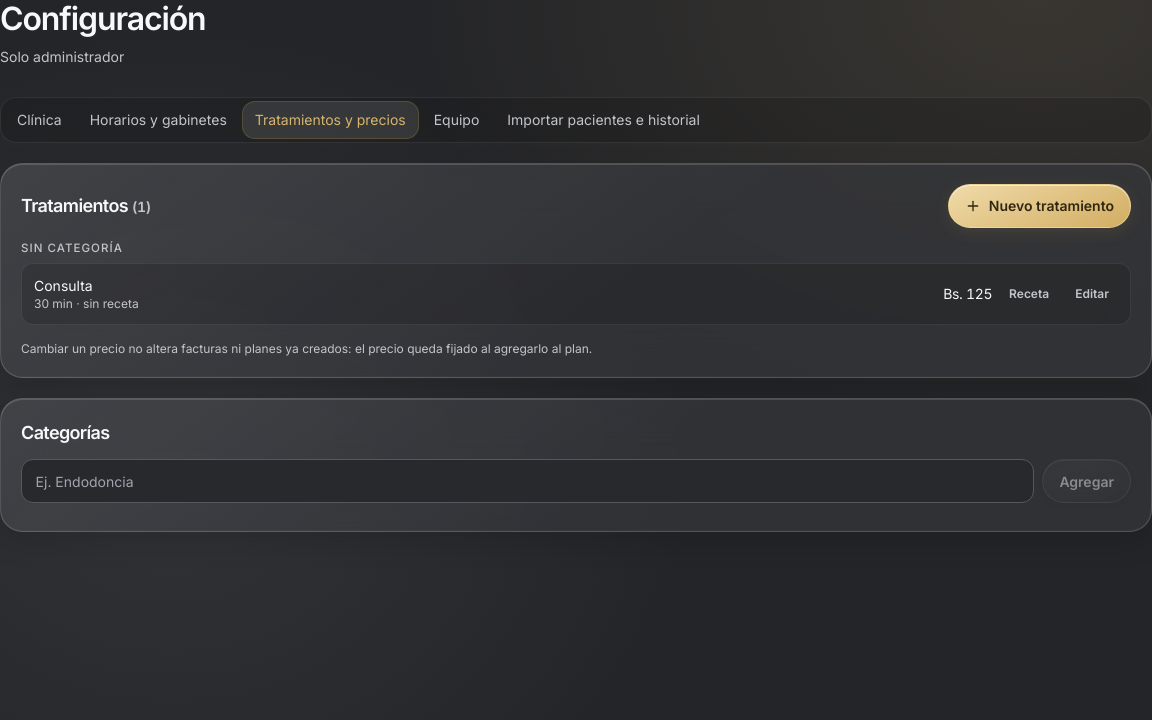
Test: configuración al abrir secciones y diálogos diferidos › mantiene los modos nuevo y edición de tratamientos sin reutilizar borradores
The width and height of the screenshot is (1152, 720).
Click the button "Editar".
click(1092, 294)  # box [1066,272,1118,316]
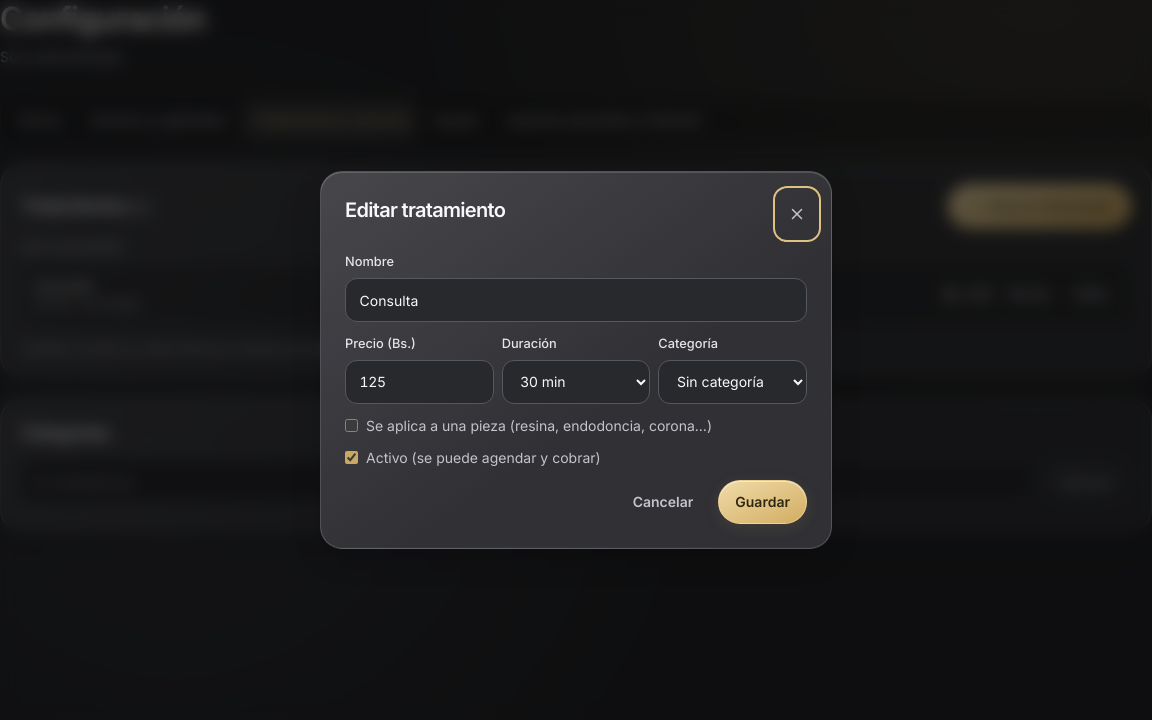
Expected: the field labelled "Nombre" holds "Consulta"
Replace the text in the field labelled "Nombre" with "Borrador" at (576, 300), box [345,278,807,322]
Click the button "Cancelar".
click(663, 502)  # box [616,480,710,524]
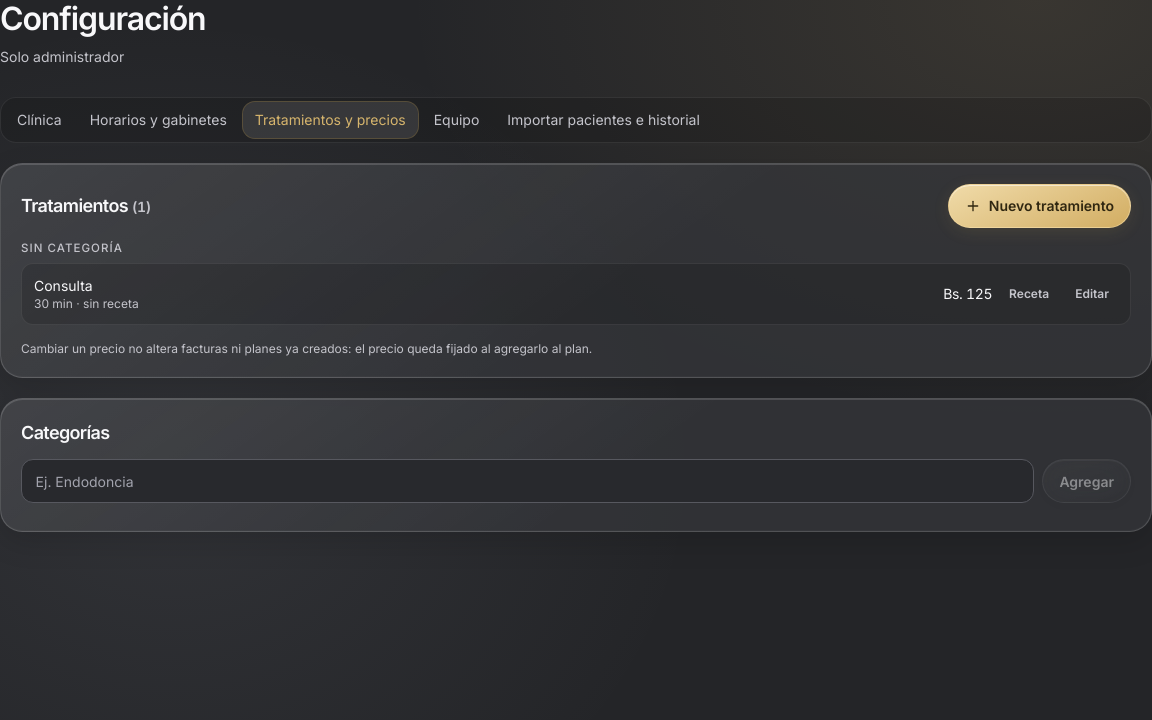
Click the button "Nuevo tratamiento".
click(1039, 206)  # box [948,184,1131,228]
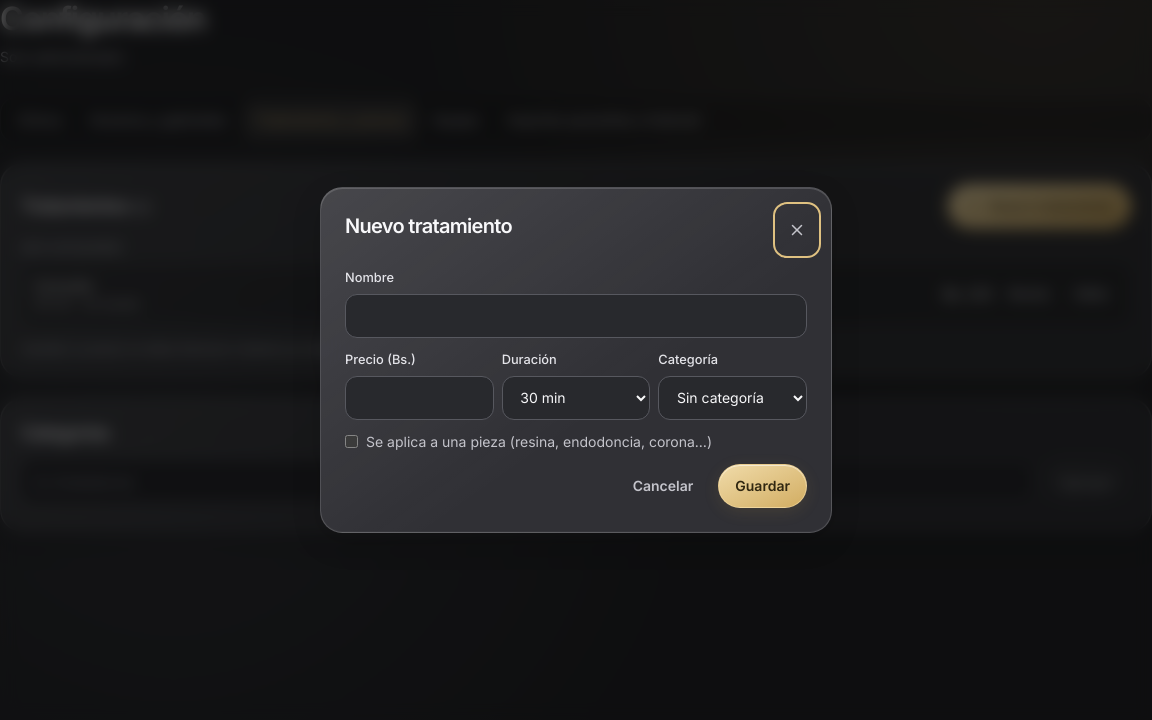
Type "Control" into the field labelled "Nombre".
click(576, 316); type("Control")  # box [345,294,807,338]
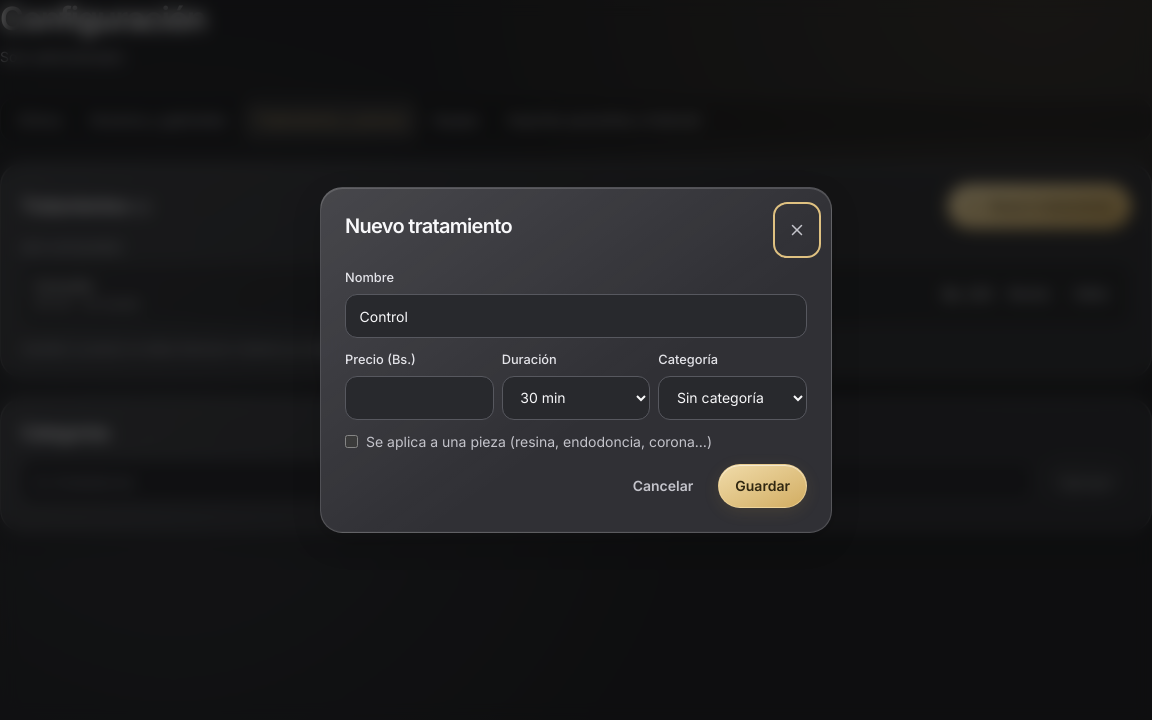
Type "50,25" into the field labelled "Precio (Bs.)".
click(419, 398); type("50,25")  # box [345,376,494,420]
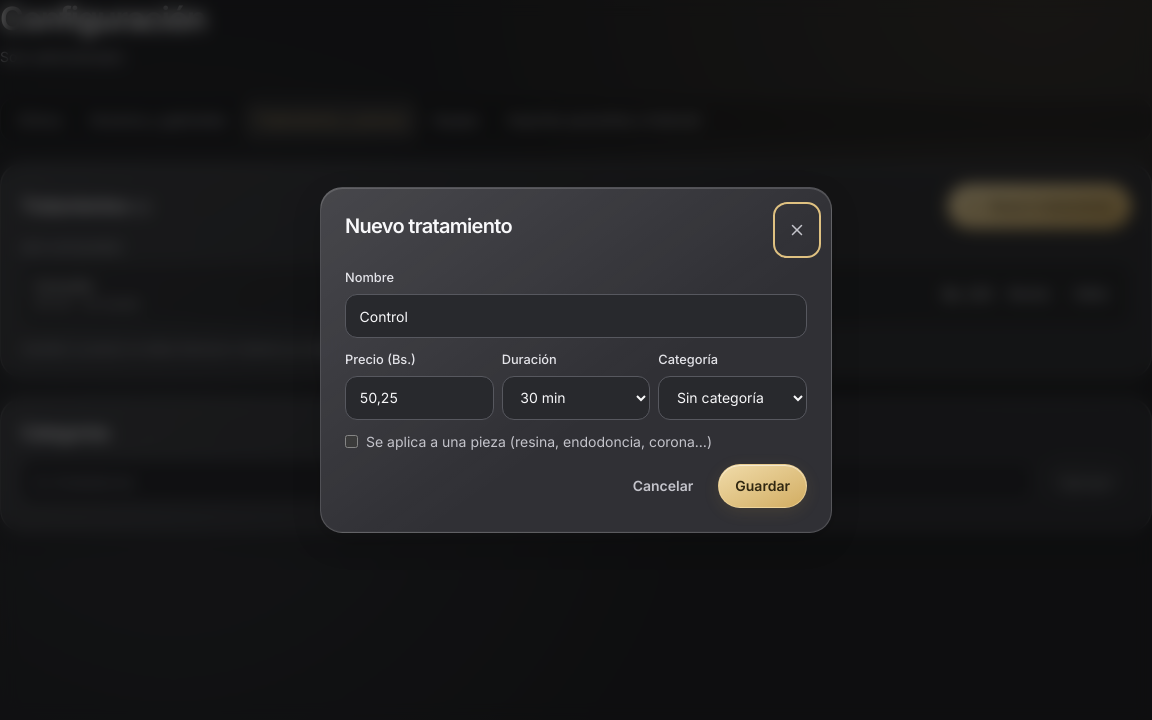
Click the button "Guardar".
click(763, 486)  # box [718,464,807,508]
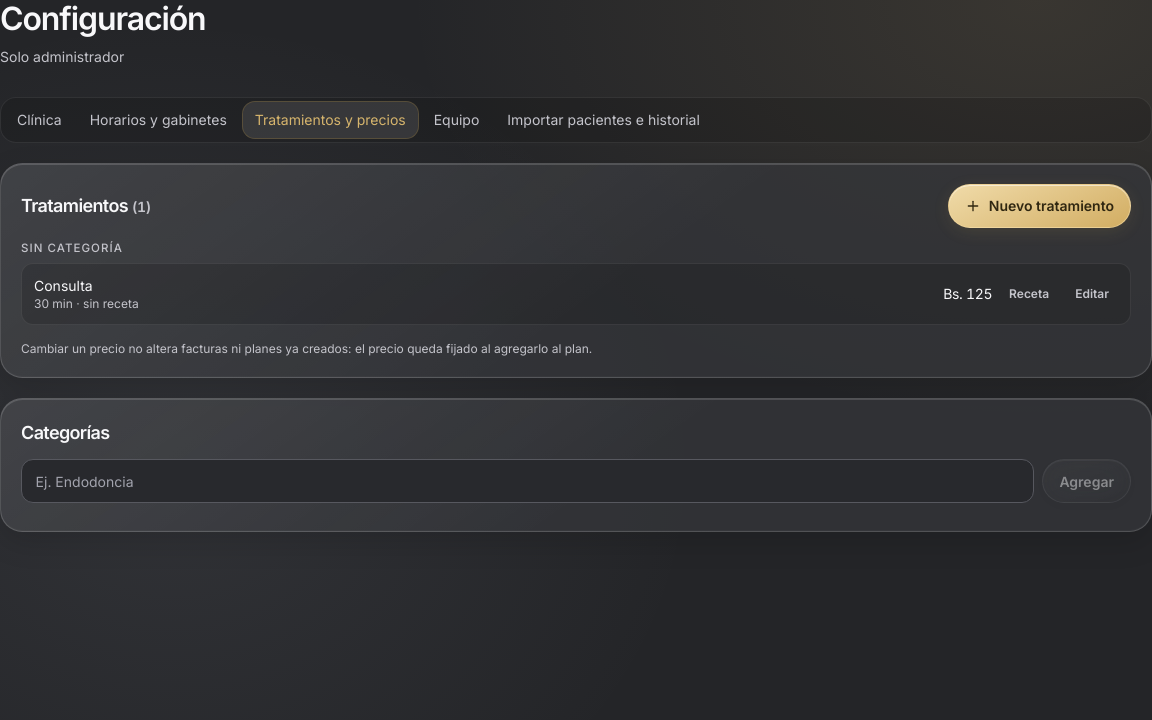
Expected: the dialog is gone
